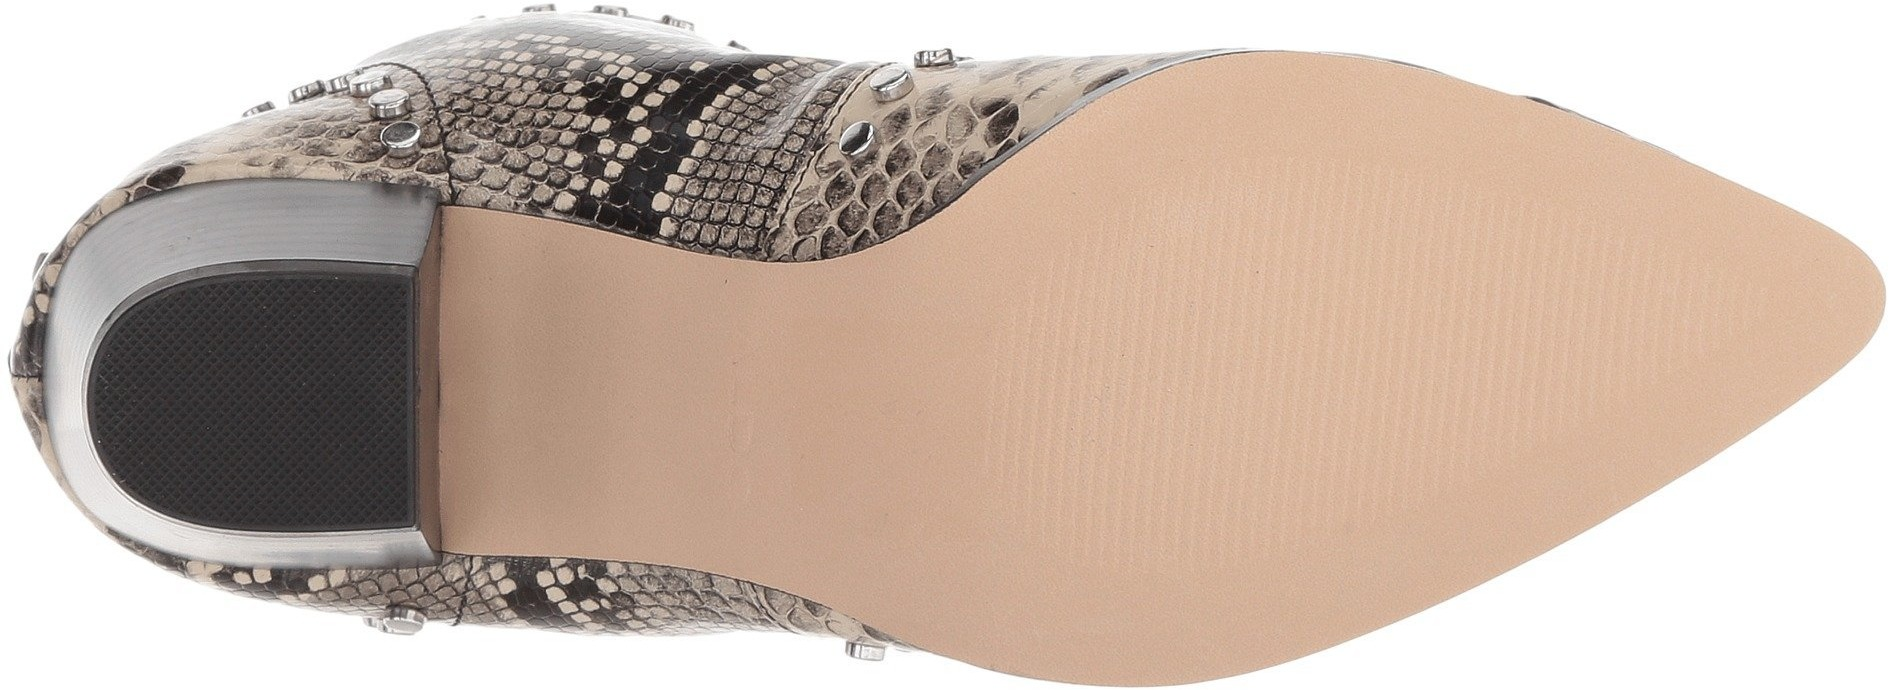line: (1410, 210, 1628, 425), (1195, 213, 1405, 417), (977, 283, 1179, 493), (1193, 421, 1332, 556)
other: (820, 468, 967, 611), (1218, 63, 1314, 155)
quad: (255, 305, 412, 449), (107, 340, 252, 483)
